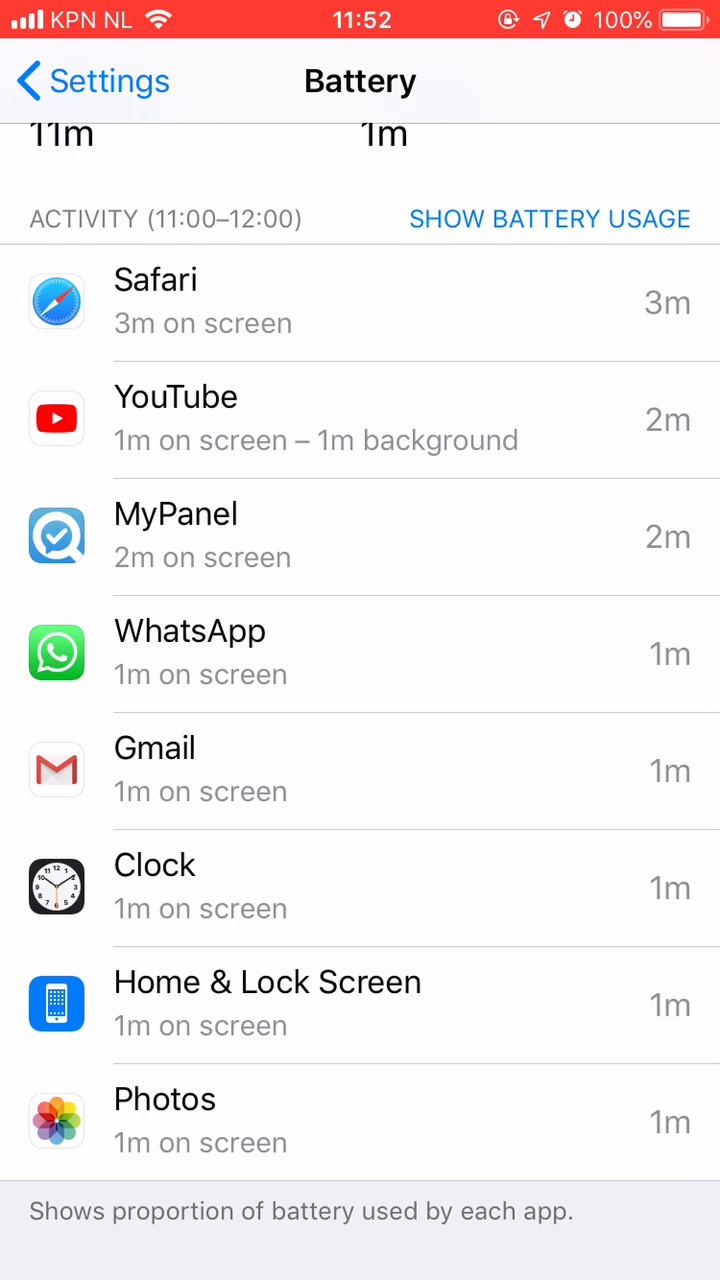activity: (30, 187, 344, 236)
app: (28, 259, 703, 347), (26, 373, 701, 461), (28, 490, 703, 578), (21, 607, 696, 695), (26, 719, 701, 807), (24, 845, 699, 933), (22, 950, 697, 1038), (25, 1073, 700, 1161)
